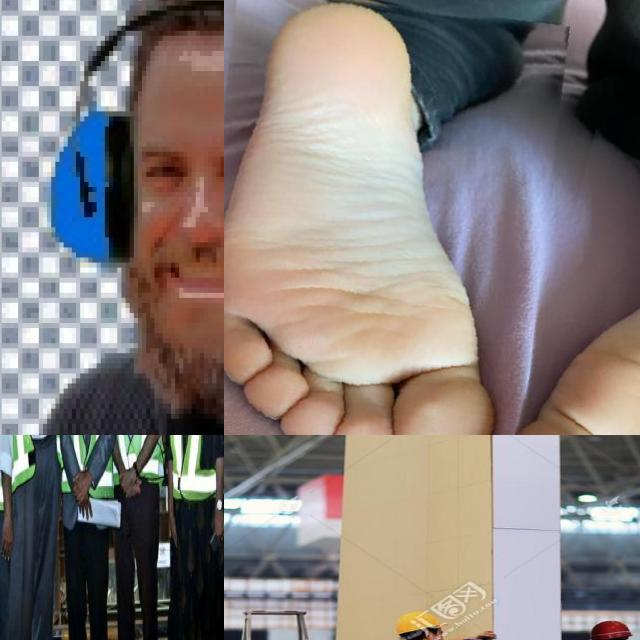Barefoots: (224, 0, 492, 435), (513, 293, 640, 435)
Ear-protection: (49, 14, 224, 280)
No_Ear-Protection: (382, 603, 465, 640)
hand_noglove: (122, 470, 142, 505), (72, 488, 95, 516), (168, 510, 181, 551), (0, 519, 14, 556), (74, 471, 88, 506), (214, 507, 224, 541)
person: (55, 435, 114, 640), (110, 435, 169, 640), (2, 435, 59, 640), (163, 435, 219, 640)
vest: (167, 435, 217, 495), (8, 435, 58, 471), (62, 435, 113, 469), (117, 435, 159, 463)
